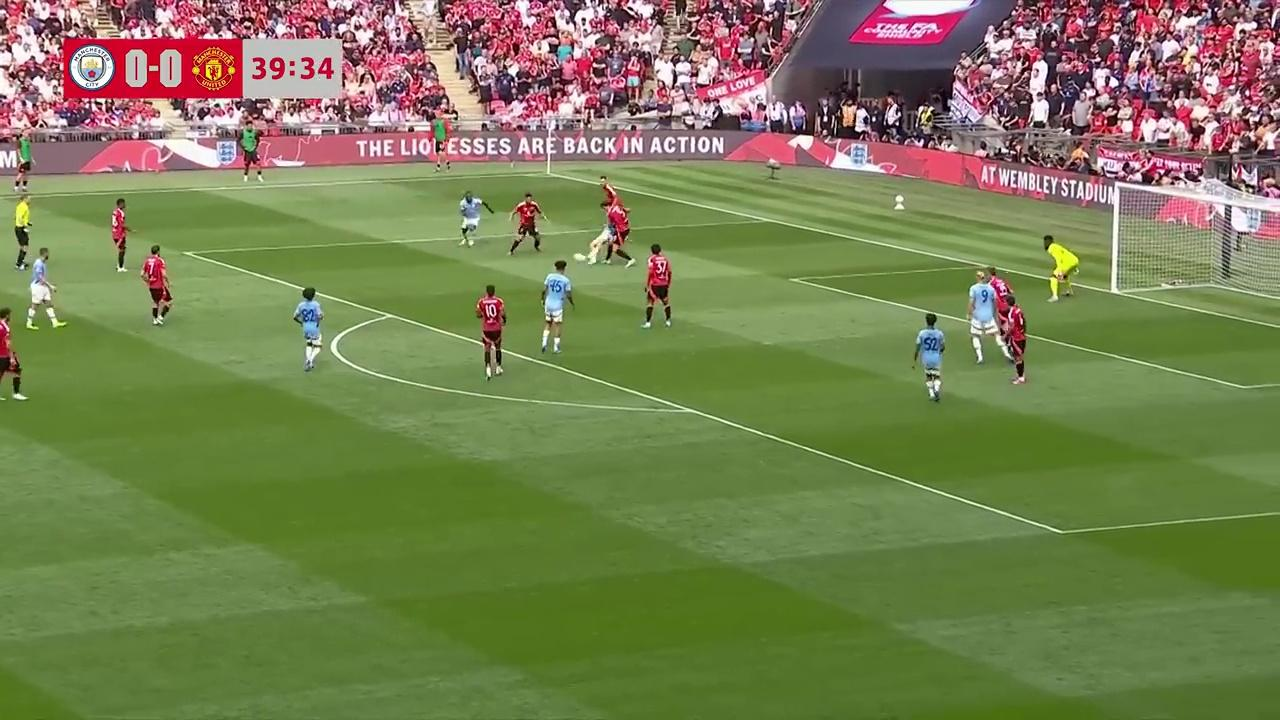ball: (572, 249, 586, 263)
player: (967, 267, 1008, 369), (25, 246, 65, 329), (539, 260, 574, 354), (913, 314, 946, 402), (476, 284, 506, 380), (293, 286, 325, 372), (140, 245, 172, 326), (642, 243, 672, 329), (0, 308, 27, 402), (507, 192, 546, 255), (979, 267, 1013, 338), (1043, 235, 1077, 300), (458, 189, 492, 246), (588, 205, 620, 265), (1005, 301, 1027, 384), (605, 204, 632, 267), (110, 197, 129, 272), (598, 176, 620, 223)
referee: (12, 192, 33, 271)
